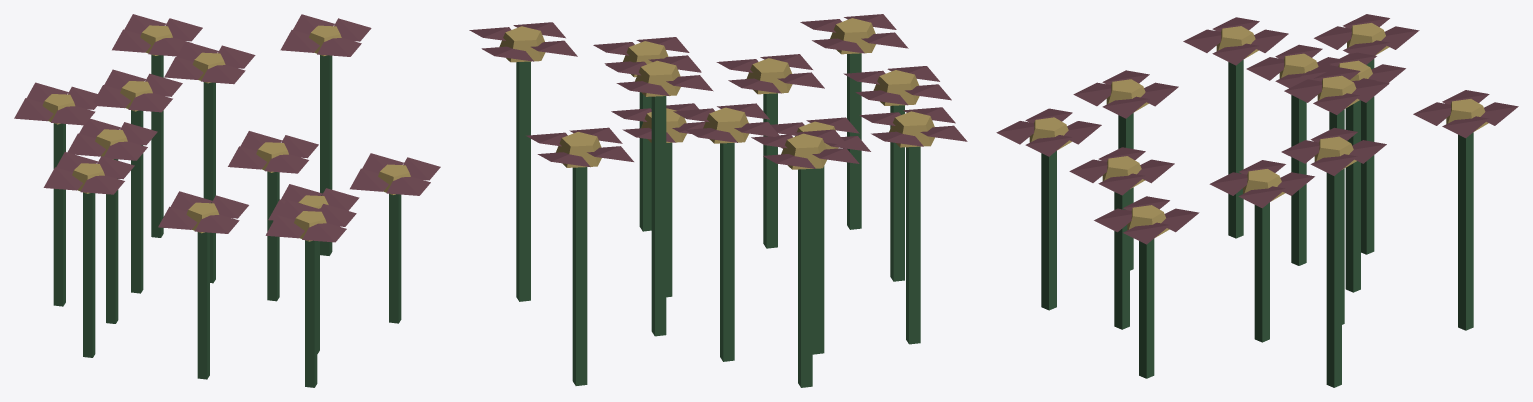
Rendered from Flowers_B.fbx.
3 views of the same model, side by side, from view 1: azimuth 30°, elevation 25°; view 2: azimuth 150°, elevation 25°; view 3: azimuth 270°, elevation 25° (orthographic). The views are drawn at different scales.
Parts seen in each view (by area): view 1: Flowers_B; view 2: Flowers_B; view 3: Flowers_B.
Boxes of the visible parts, x1,y1,x2,y2 form: Flowers_B: (14, 14, 440, 387); Flowers_B: (469, 14, 967, 387); Flowers_B: (996, 14, 1518, 387).
Size of the model in its own units: 0.6358 by 0.3616 by 0.7102.
Materials: 1 (1 with a texture image).
